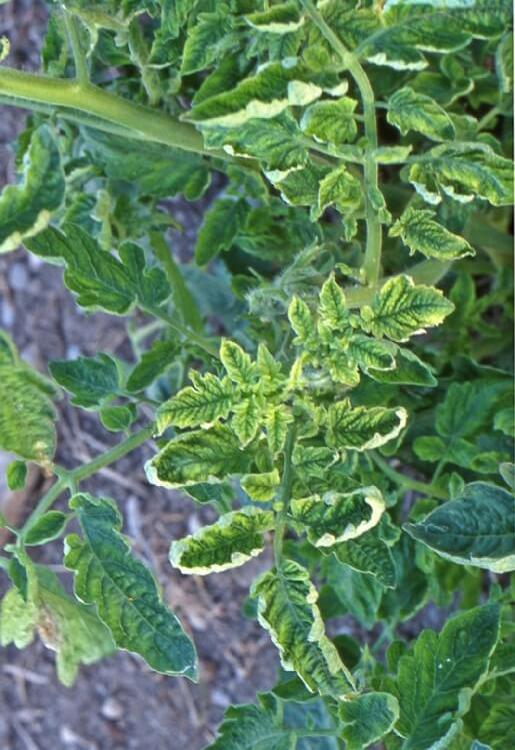Tomato leaf yellow virus: (253, 559, 372, 744), (166, 497, 274, 578), (356, 273, 459, 347), (150, 374, 242, 439), (294, 490, 389, 549), (393, 204, 482, 262), (324, 399, 410, 451), (298, 93, 365, 149), (225, 396, 265, 450)
